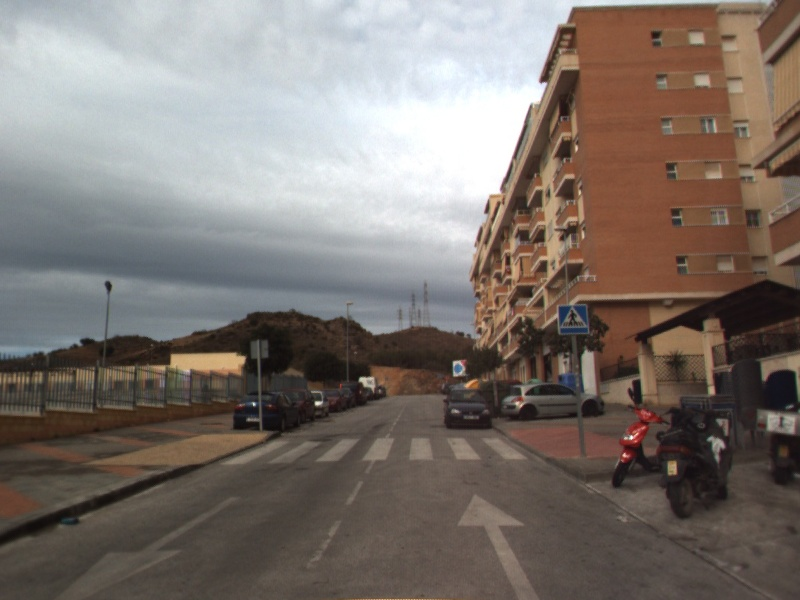STRAIGHT: (455, 491, 543, 600)
